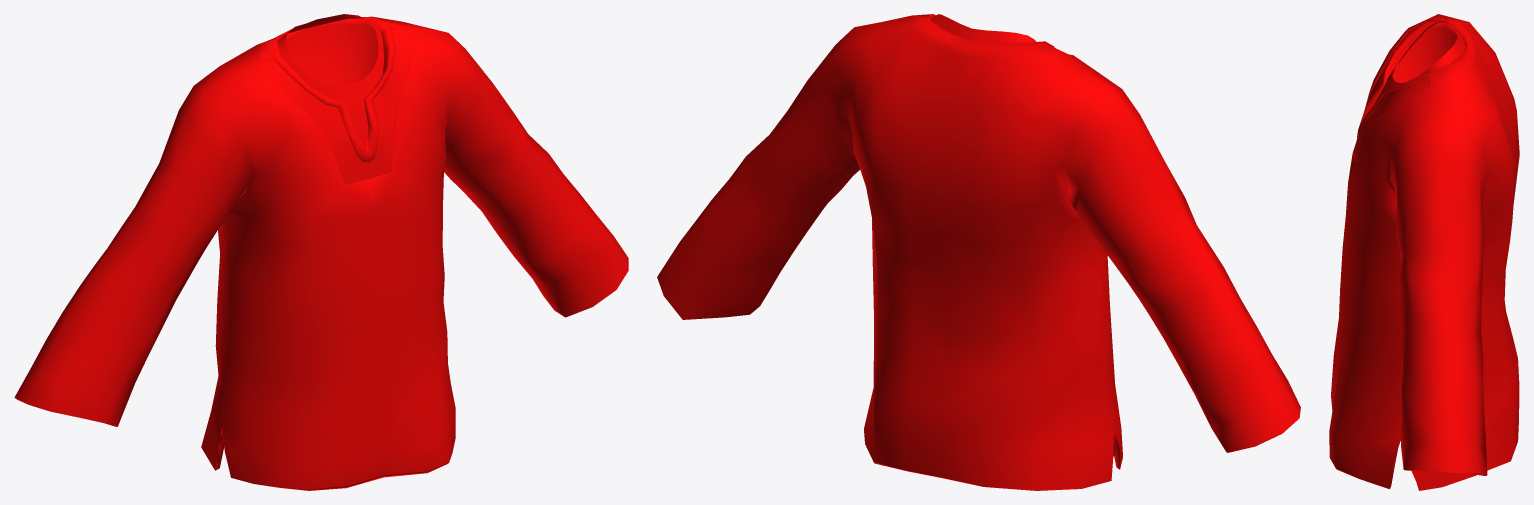
Rendered from uppr_000_r_high.FBX.
3 views of the same model, side by side, from view 1: azimuth 30°, elevation 25°; view 2: azimuth 150°, elevation 25°; view 3: azimuth 270°, elevation 25° (orthographic). The views are drawn at different scales.
Visible parts, largest first — view 1: uppr_000_r_high; view 2: uppr_000_r_high; view 3: uppr_000_r_high.
Part boxes in pixels (x1=…): uppr_000_r_high: x1=14, y1=14, x2=628, y2=490; uppr_000_r_high: x1=657, y1=14, x2=1300, y2=490; uppr_000_r_high: x1=1329, y1=14, x2=1519, y2=490.
Bounding box in the file's own units: 1.14 × 0.7627 × 0.3252.
